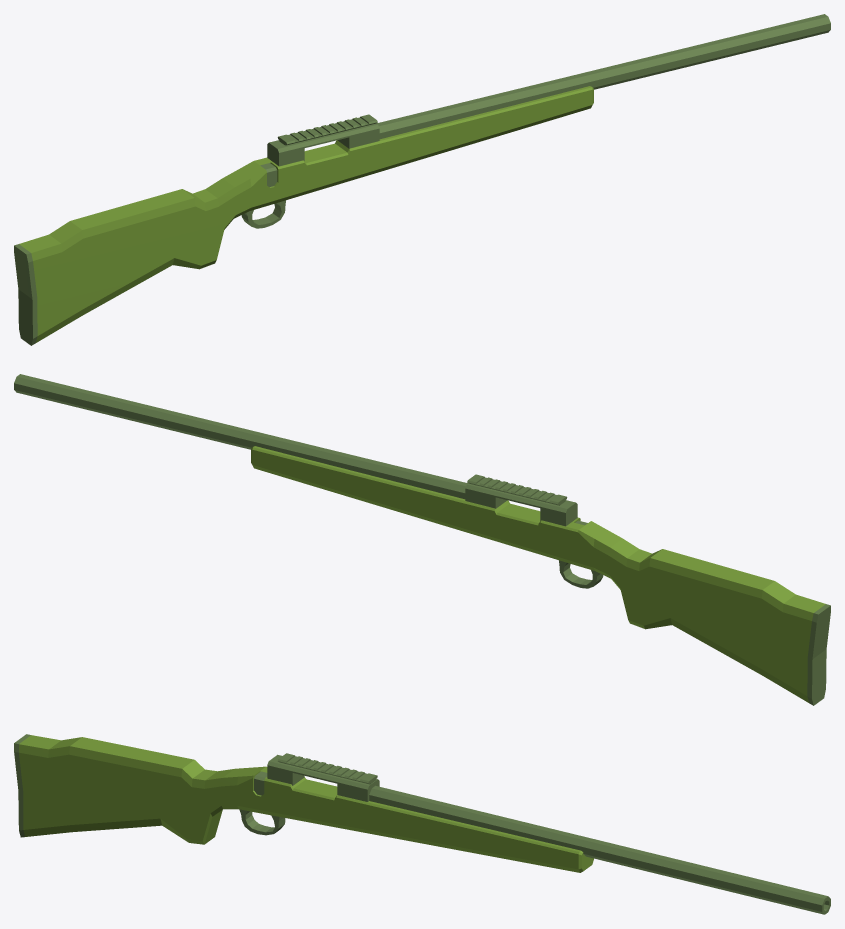
File: SniperRifle3_03.fbx
3 views of the same model, one above another, from view 1: azimuth 30°, elevation 25°; view 2: azimuth 150°, elevation 25°; view 3: azimuth 330°, elevation 25° (orthographic).
Visible parts, largest first — view 1: SniperRifle3_03; view 2: SniperRifle3_03; view 3: SniperRifle3_03.
Part boxes in pixels (x1,y1,x2,y2): SniperRifle3_03: [14, 14, 830, 345]; SniperRifle3_03: [14, 374, 830, 705]; SniperRifle3_03: [14, 734, 830, 914].
Size of the model in its own units: 1.22 by 0.2029 by 0.0371.
